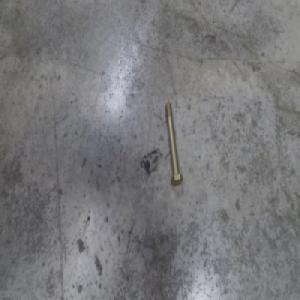Bolt: (165, 102, 184, 187)
